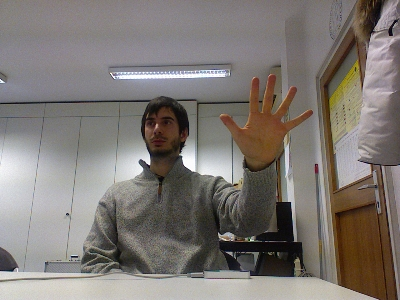布: (218, 72, 315, 166)
